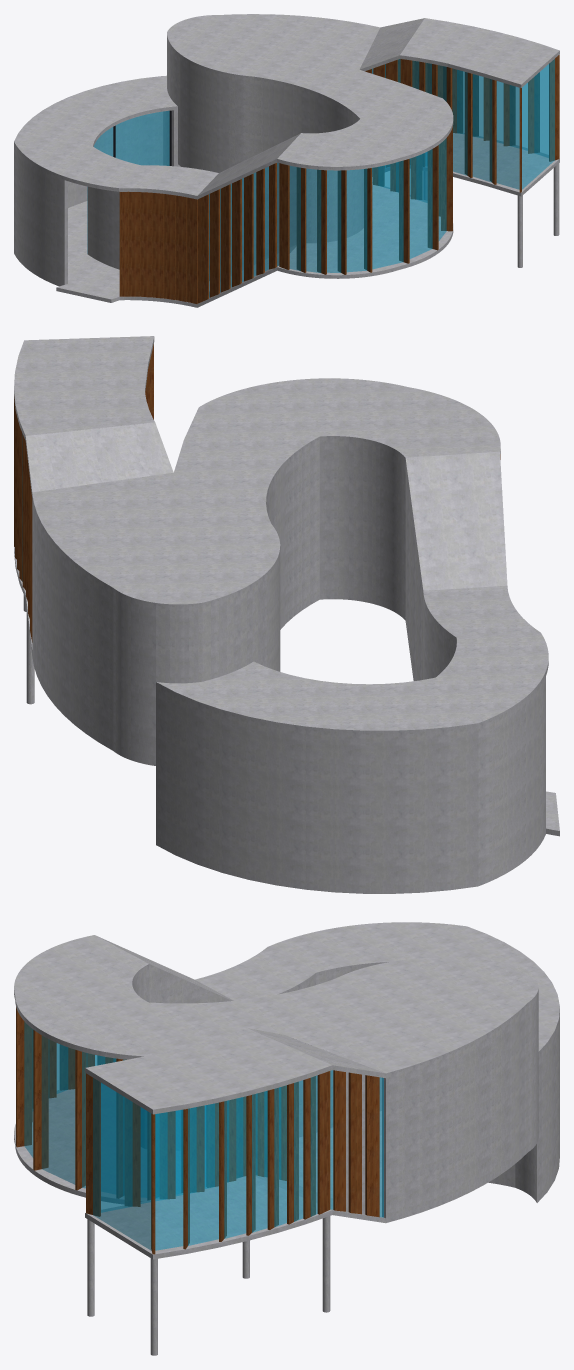
Rendered from memorial.glb.
3 views of the same model, one above another, from view 1: azimuth 30°, elevation 25°; view 2: azimuth 150°, elevation 25°; view 3: azimuth 270°, elevation 25° (orthographic). The views are drawn at different scales.
Visible parts, largest first — view 1: 385696, PARASOLES BIEN (×26), PARASOL INCLINADO (×7), 47934, 74244; view 2: 385696, 47934; view 3: 385696, PARASOLES BIEN (×20), PARASOL INCLINADO #2 (×2).
Boxes of the visible parts, bbox=[...] form: 385696: bbox=[14, 14, 559, 307]; PARASOLES BIEN (×26): bbox=[119, 55, 559, 303]; PARASOL INCLINADO (×7): bbox=[198, 163, 276, 303]; 47934: bbox=[197, 133, 300, 195]; 74244: bbox=[111, 296, 197, 307]; 385696: bbox=[14, 336, 559, 893]; 47934: bbox=[405, 451, 507, 590]; 385696: bbox=[14, 922, 559, 1355]; PARASOLES BIEN (×20): bbox=[16, 1007, 330, 1254]; PARASOL INCLINADO #2 (×2): bbox=[256, 1085, 286, 1180].
Size of the model in its own units: 25.25 by 10.2 by 20.48.
1122 materials, 1122 textured.
